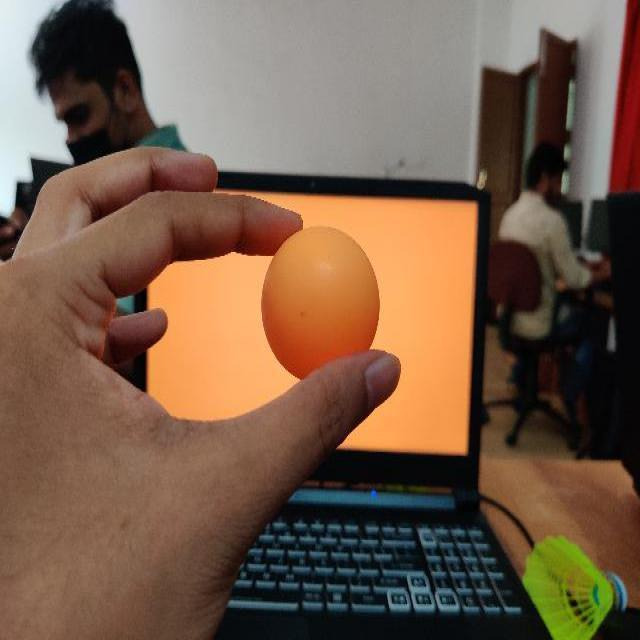ping-pong-ball: (260, 225, 378, 378)
